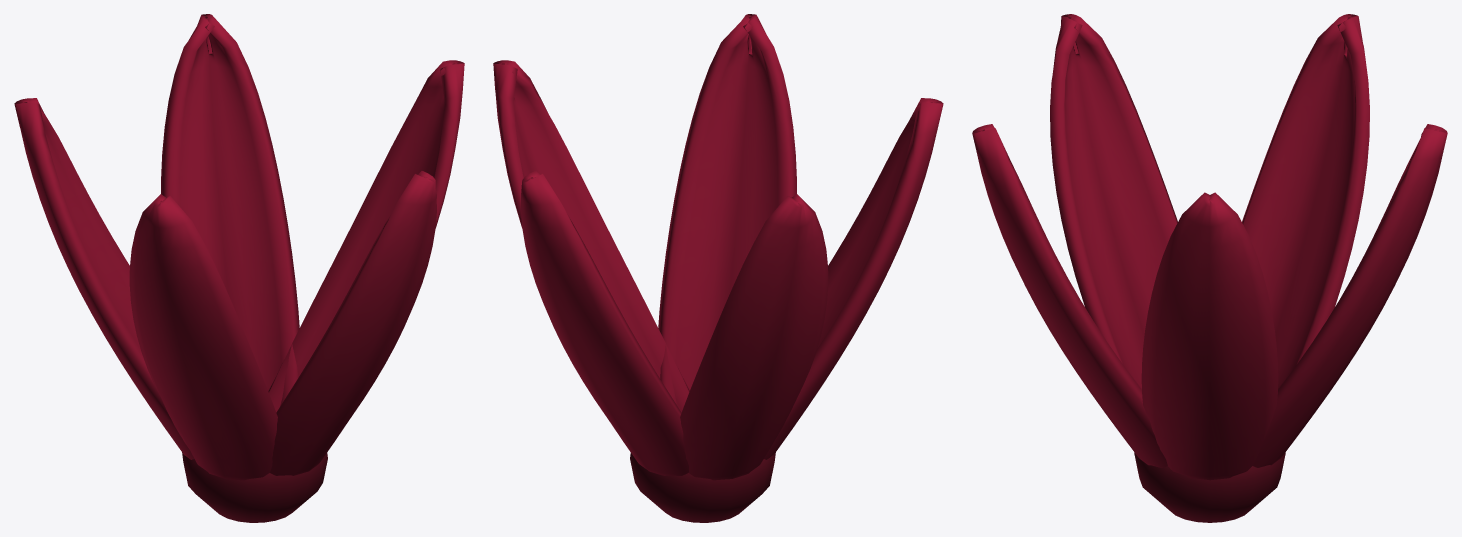
Rendered from hibiscus.glb.
The picture shows the model from 3 angles, left to right: view 1: azimuth 30°, elevation 25°; view 2: azimuth 150°, elevation 25°; view 3: azimuth 270°, elevation 25°; orthographic projection. The views are drawn at different scales.
Parts seen in each view (by area): view 1: Hibiscus; view 2: Hibiscus; view 3: Hibiscus.
Part boxes in pixels (bbox=[...]): Hibiscus: bbox=[14, 14, 464, 522]; Hibiscus: bbox=[493, 14, 943, 522]; Hibiscus: bbox=[972, 14, 1447, 522].
Size of the model in its own units: 0.0406 by 0.0414 by 0.0426.
